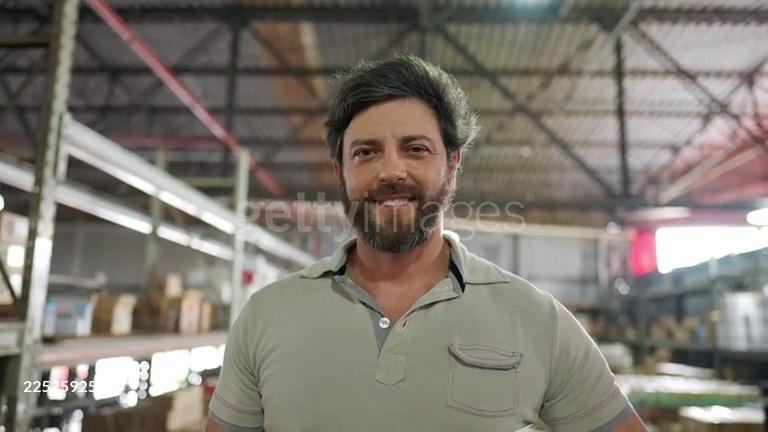person: (204, 50, 650, 432)
